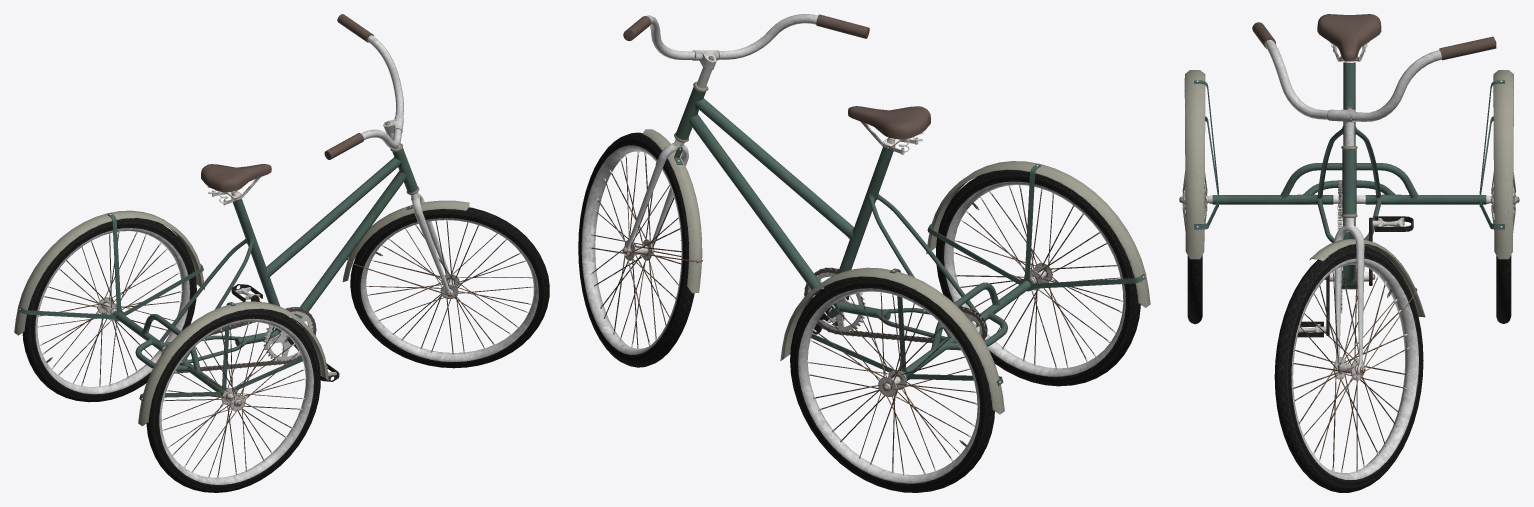
The picture shows the model from 3 angles, left to right: view 1: azimuth 30°, elevation 25°; view 2: azimuth 150°, elevation 25°; view 3: azimuth 270°, elevation 25°; orthographic projection. The views are drawn at different scales.
Visible parts, largest first — view 1: Bicycle; view 2: Bicycle; view 3: Bicycle.
Boxes of the visible parts, box(x1,y1,x2,y2) form: Bicycle: box(14, 14, 549, 492); Bicycle: box(578, 14, 1150, 492); Bicycle: box(1179, 14, 1519, 492).
Size of the model in its own units: 161 by 115 by 85.62.
2 materials, 2 textured.
